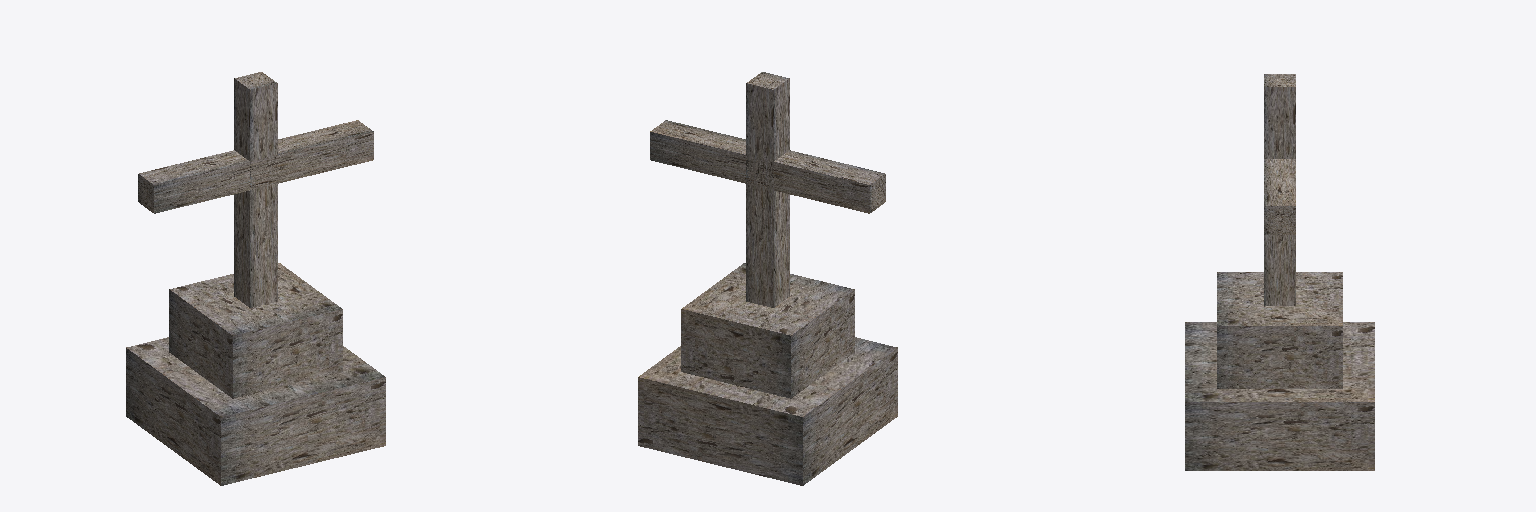
The picture shows the model from 3 angles: view 1: azimuth 30°, elevation 25°; view 2: azimuth 150°, elevation 25°; view 3: azimuth 270°, elevation 25°; orthographic projection.
Size of the model in its own units: 1 by 1.52 by 0.75.
Materials: 1 (1 with a texture image).